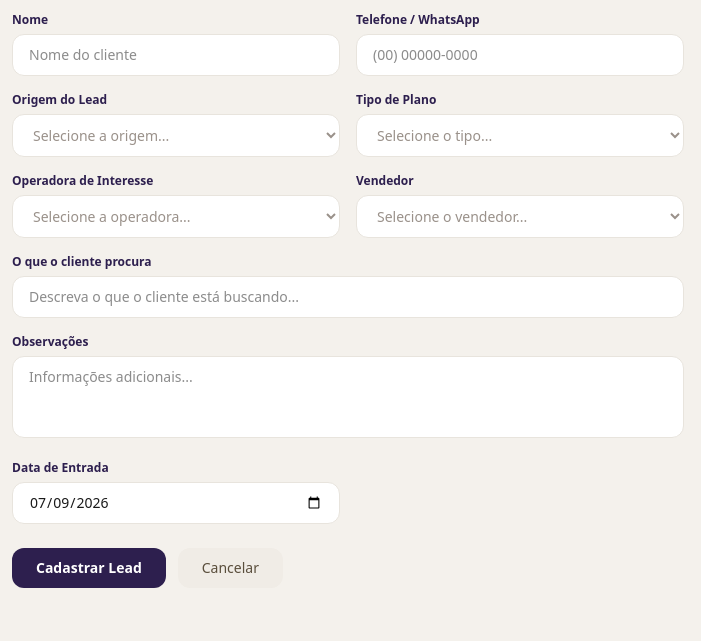
Test: LeadForm › shows error when submitting without nome or telefone
Click the button "Cadastrar Lead".
click(89, 568)  # box [12,548,166,588]
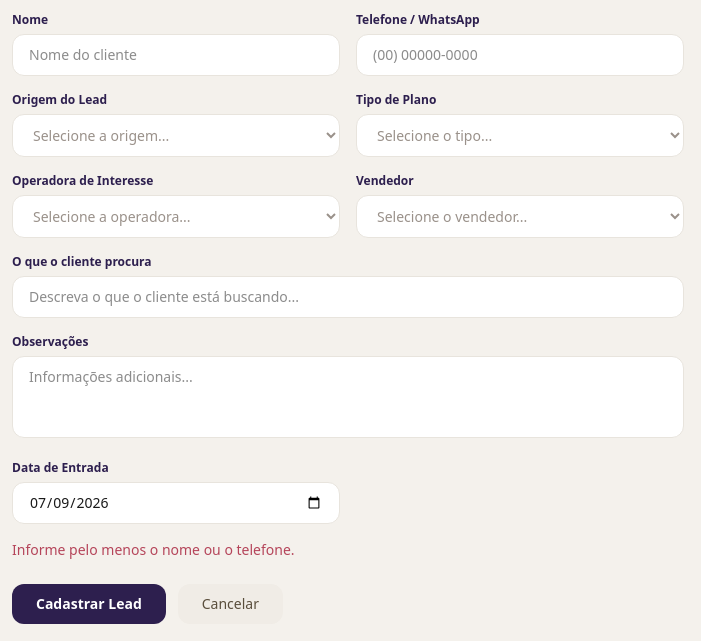
Expected: the text "Informe pelo menos o nome ou o telefone." is shown, [12,540,294,559]
